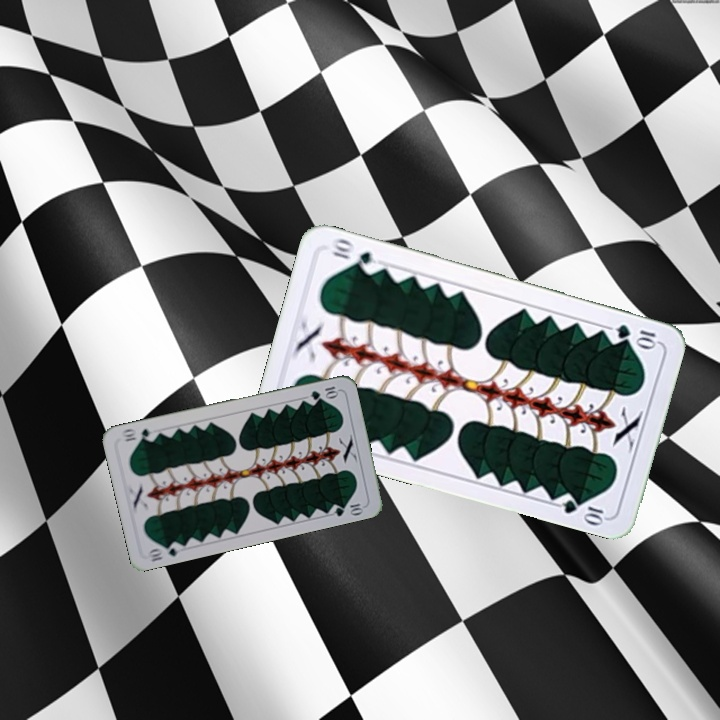G10: (611, 320, 660, 350), (143, 538, 185, 564), (307, 382, 341, 402)
